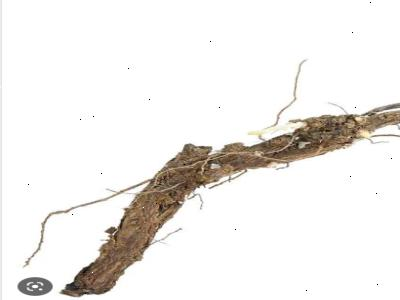Root: (61, 111, 399, 296)
